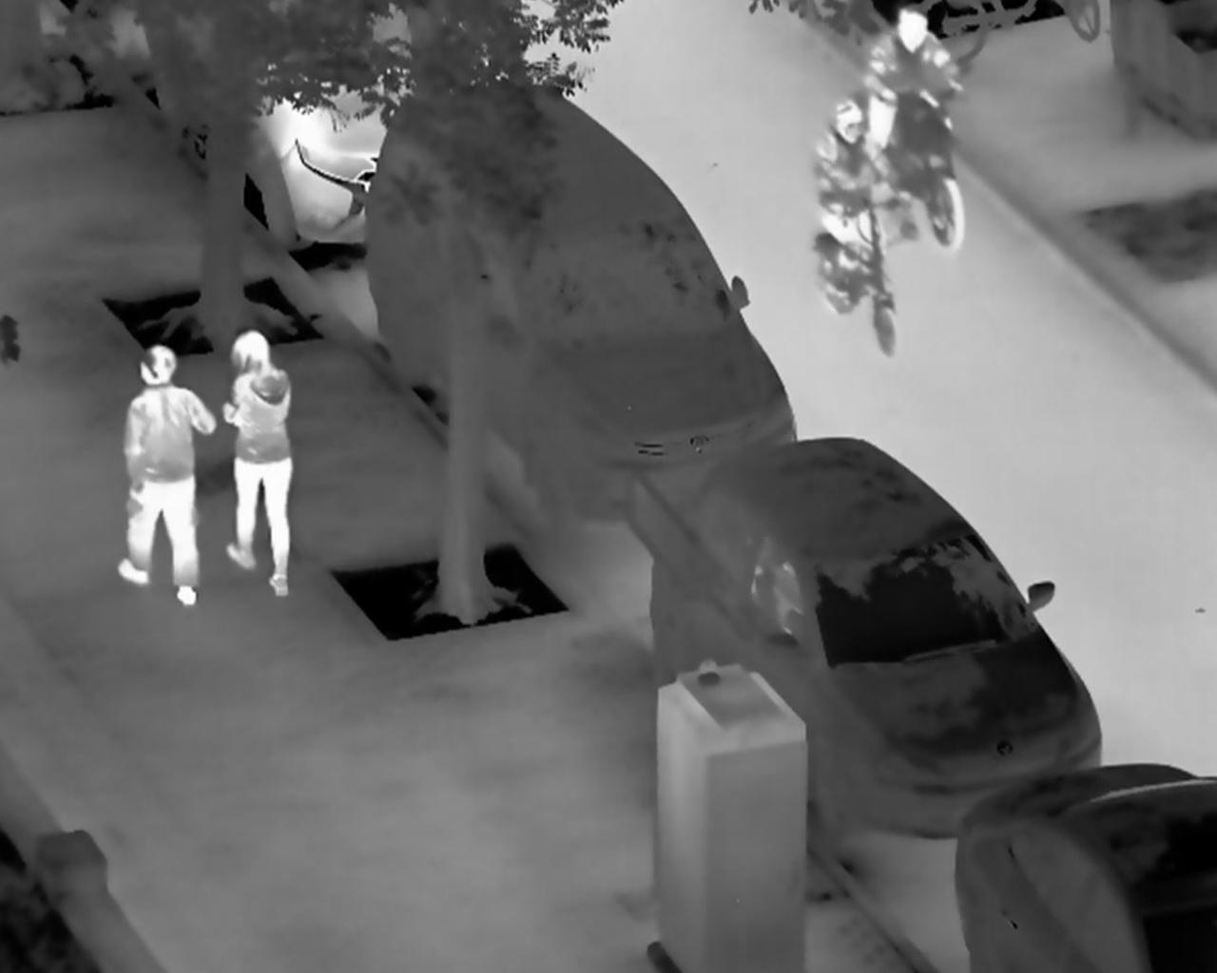person: (118, 342, 218, 608), (864, 7, 967, 203), (221, 329, 293, 599), (813, 95, 894, 285)
